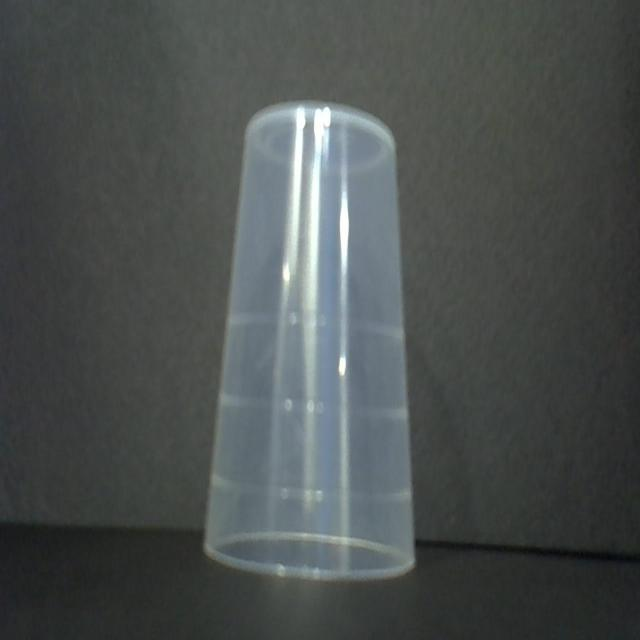cup: (203, 101, 421, 583)
